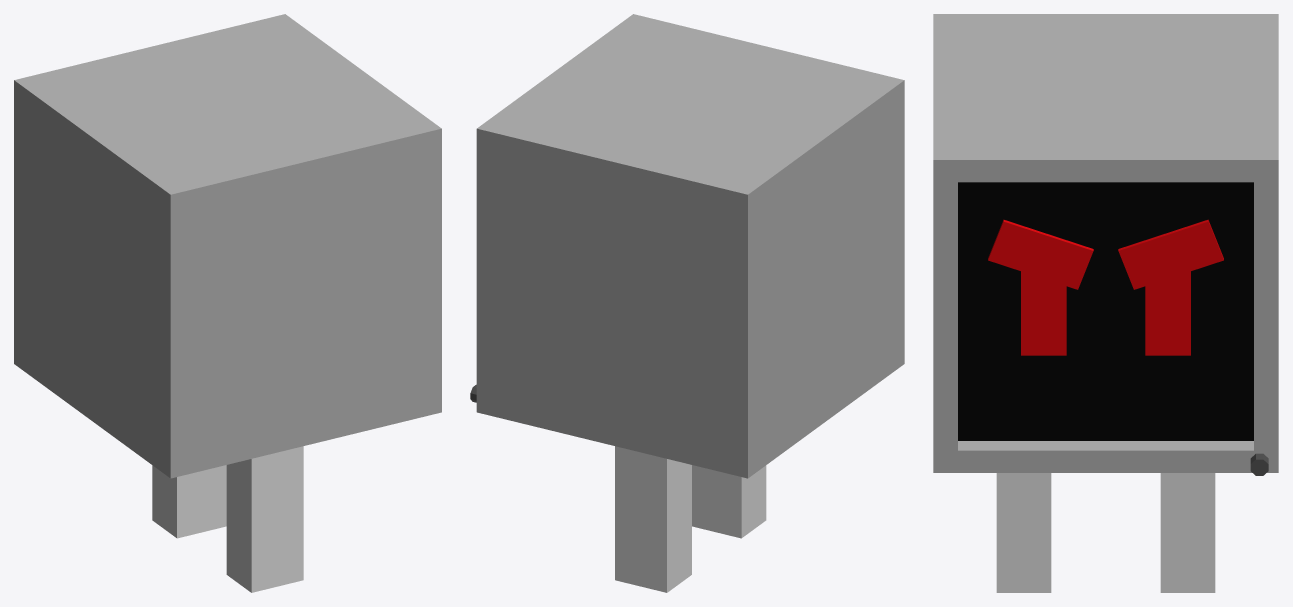
File: Enemy.fbx
3 views of the same model, side by side, from view 1: azimuth 30°, elevation 25°; view 2: azimuth 150°, elevation 25°; view 3: azimuth 270°, elevation 25° (orthographic). The views are drawn at different scales.
Visible parts, largest first — view 1: Cube, Cube.002; view 2: Cube, Cube.002; view 3: Cube, Cube.001, Cube.002.
Part boxes in pixels (<box>): Cube: <box>14,14,441,478</box>; Cube.002: <box>152,446,303,592</box>; Cube: <box>470,14,904,478</box>; Cube.002: <box>615,446,766,592</box>; Cube: <box>933,14,1278,475</box>; Cube.001: <box>988,219,1223,355</box>; Cube.002: <box>996,473,1215,592</box>.
Bounding box in the file's own units: 208 × 314 × 200.
